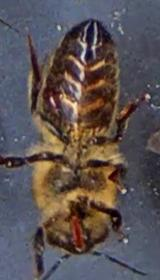varroa_mite: (38, 80, 62, 122)
